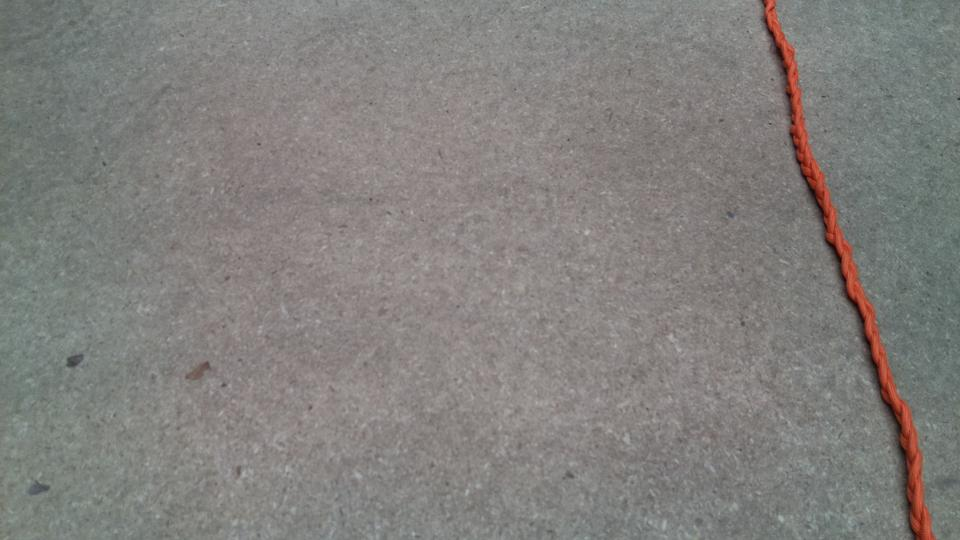rope: (756, 1, 942, 540)
